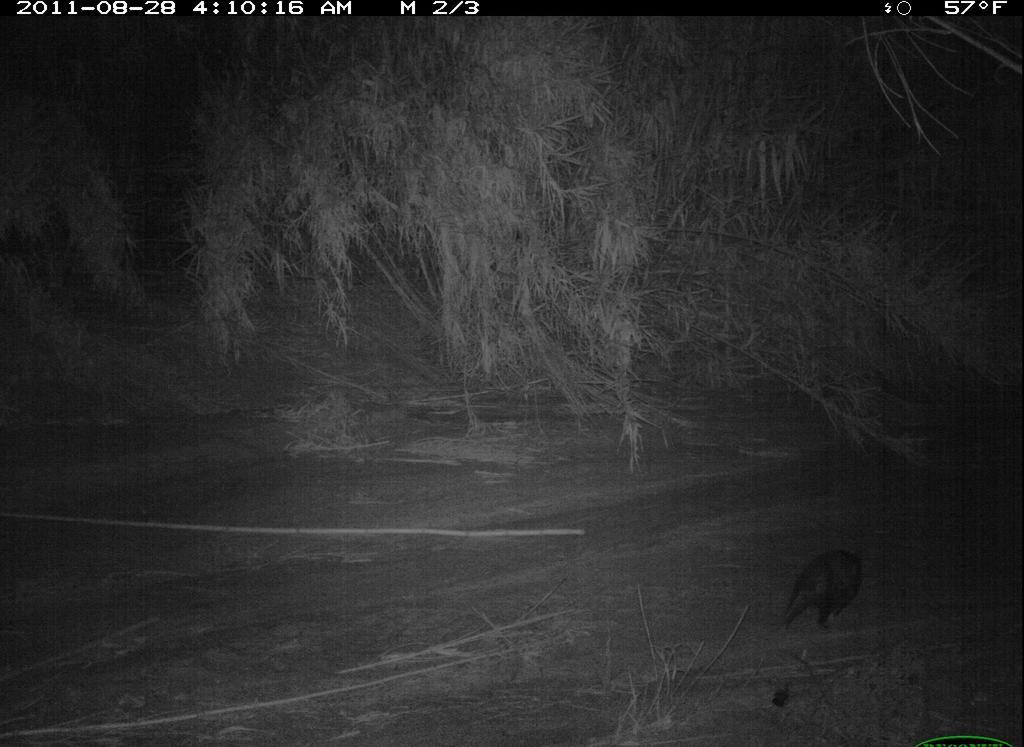opossum: (772, 546, 871, 642)
